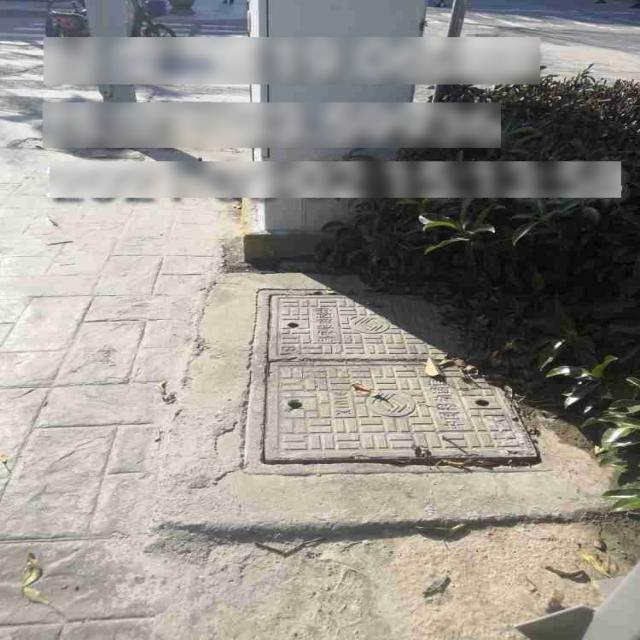Good: (241, 279, 557, 485)
